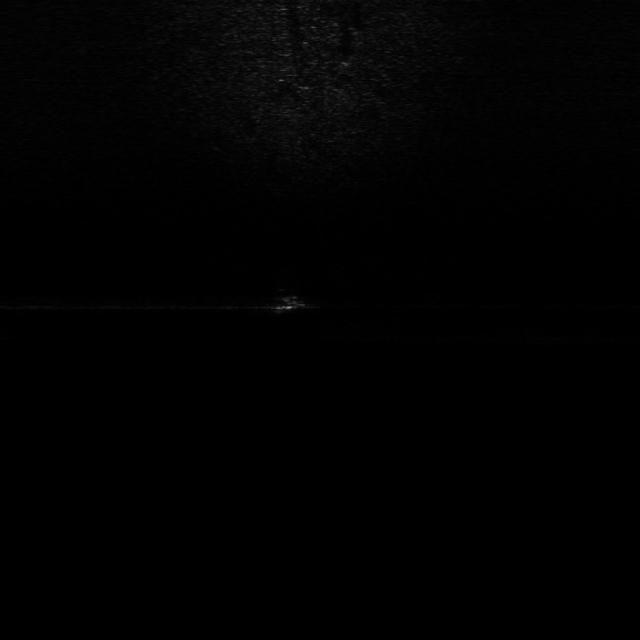human body: (260, 271, 320, 321)
